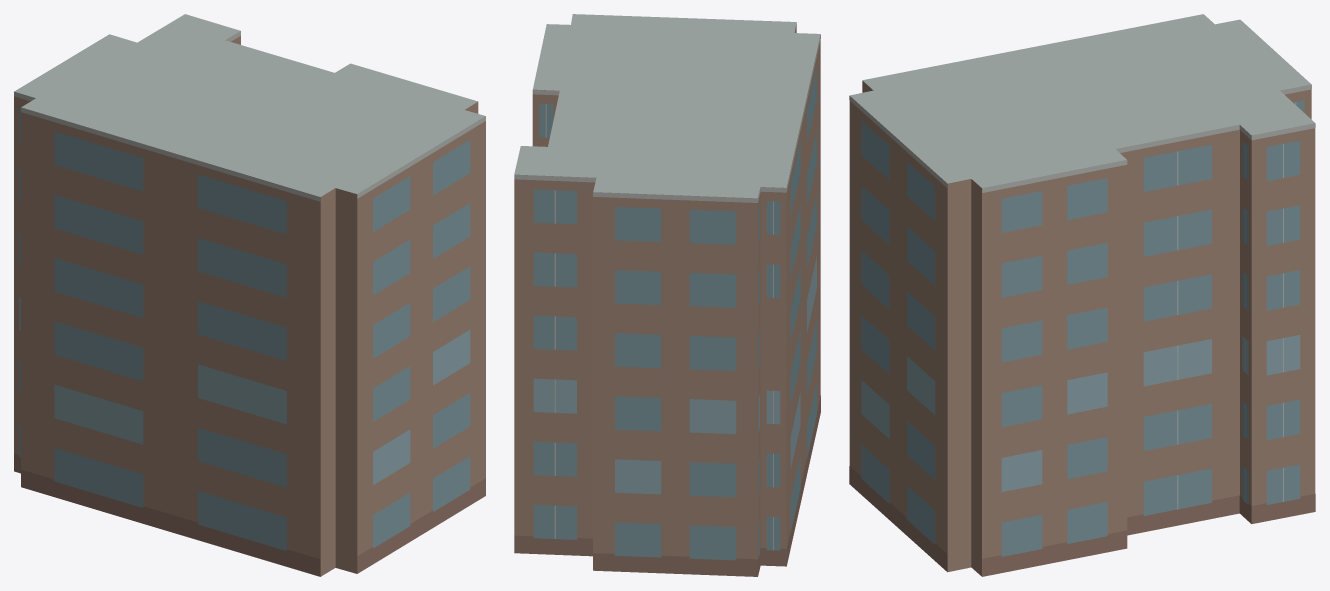
File: survey-upis-32758730.glb
The picture shows the model from 3 angles, left to right: view 1: azimuth 30°, elevation 25°; view 2: azimuth 150°, elevation 25°; view 3: azimuth 270°, elevation 25°; orthographic projection. The views are drawn at different scales.
Parts seen in each view (by area): view 1: survey-upis-32758730.tmp; view 2: survey-upis-32758730.tmp; view 3: survey-upis-32758730.tmp.
Boxes of the visible parts, left/top/right/bottom form: survey-upis-32758730.tmp: left=14, top=14, right=485, bottom=576; survey-upis-32758730.tmp: left=514, top=14, right=820, bottom=576; survey-upis-32758730.tmp: left=849, top=14, right=1315, bottom=576.
Size of the model in its own units: 18.75 by 19.49 by 21.19.
